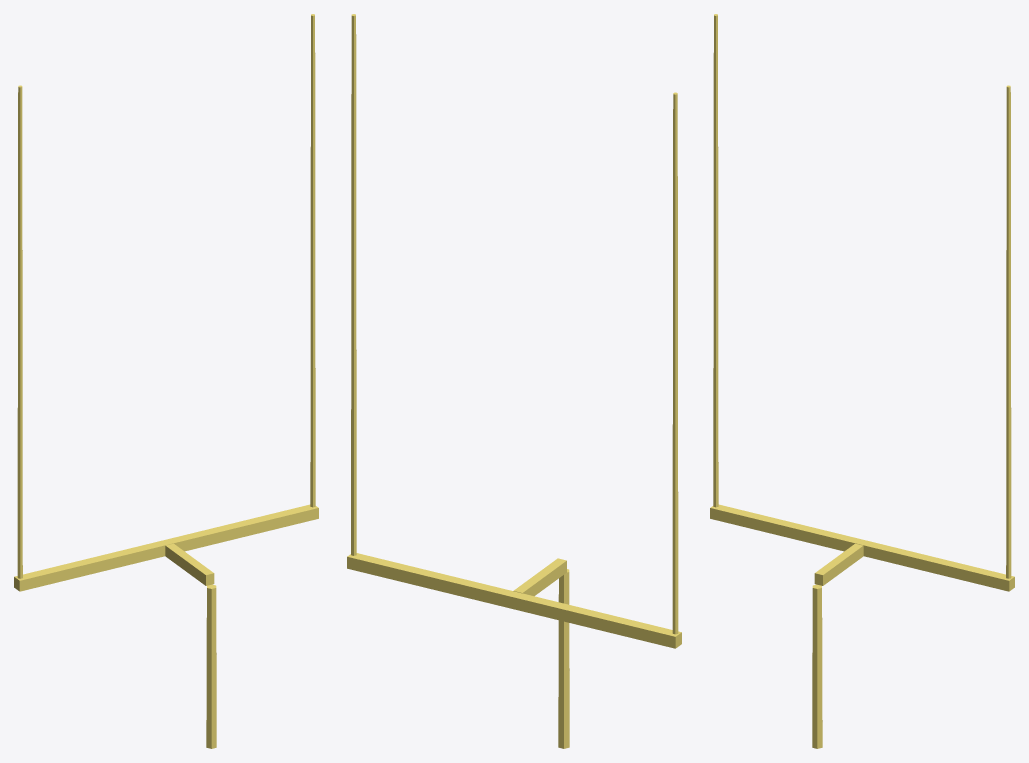
Rendered from football-goalpost-far.glb.
3 renders of one model, left to right at view 1: azimuth 30°, elevation 25°; view 2: azimuth 150°, elevation 25°; view 3: azimuth 330°, elevation 25°, orthographic. The views are drawn at different scales.
Visible parts, largest first — view 1: football-goalpost-far; view 2: football-goalpost-far; view 3: football-goalpost-far.
Part boxes in pixels (bbox=[...]): football-goalpost-far: bbox=[14, 14, 318, 748]; football-goalpost-far: bbox=[347, 14, 681, 748]; football-goalpost-far: bbox=[710, 14, 1014, 748].
Size of the model in its own units: 0.4721 by 1 by 0.1382.
